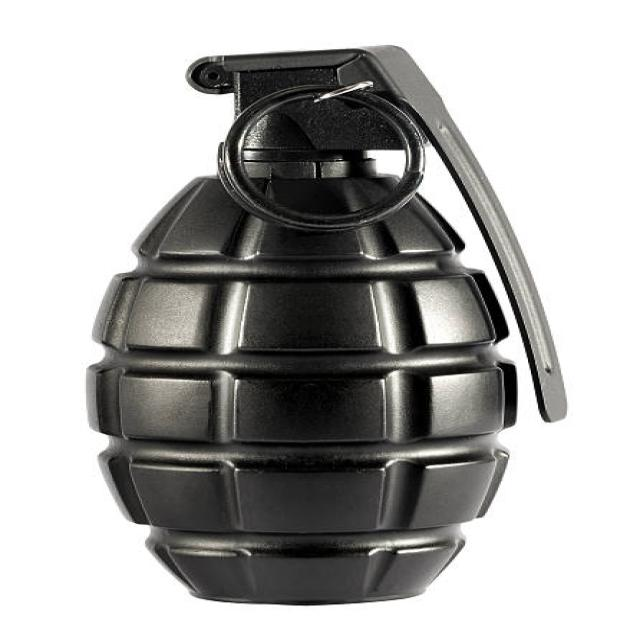grenade: (70, 42, 579, 611)
